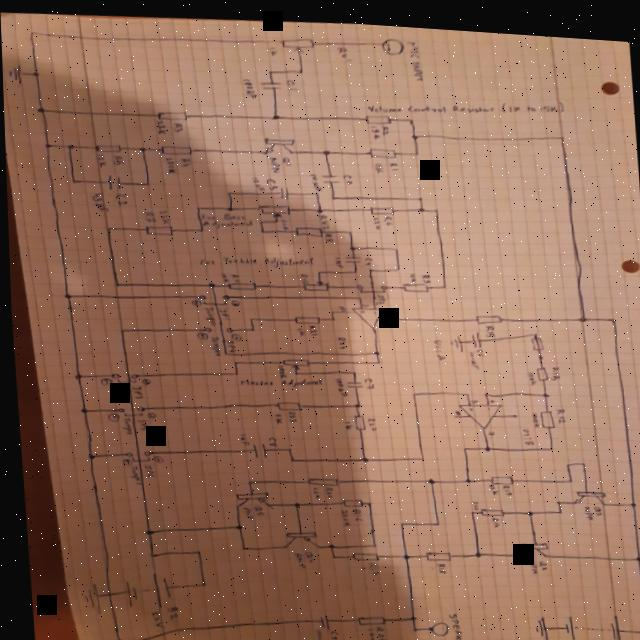capacitor: (248, 436, 264, 454), (258, 74, 281, 86), (106, 171, 121, 188), (343, 373, 361, 385), (321, 167, 339, 179), (314, 609, 327, 625), (468, 324, 480, 341), (342, 249, 359, 258), (278, 181, 288, 194)
crossover: (102, 590, 108, 594)
ground: (79, 580, 97, 612), (528, 606, 545, 633), (7, 61, 21, 82), (447, 326, 462, 345)
junction: (630, 545, 640, 552), (137, 142, 146, 149), (314, 201, 323, 208), (77, 405, 86, 412), (576, 306, 584, 313), (607, 306, 615, 313), (28, 28, 36, 35), (71, 371, 79, 378), (35, 105, 44, 111), (625, 492, 634, 498), (204, 278, 213, 284), (61, 291, 70, 297), (271, 109, 279, 115), (31, 69, 39, 75), (289, 496, 297, 502), (321, 144, 329, 150), (481, 437, 489, 443), (405, 608, 413, 614), (410, 126, 418, 132), (557, 125, 565, 131), (225, 201, 233, 207), (416, 449, 424, 455), (84, 451, 92, 457), (462, 470, 469, 476), (43, 141, 50, 147), (267, 64, 274, 70), (117, 325, 124, 331), (416, 200, 424, 205), (350, 396, 358, 401), (406, 111, 414, 116), (539, 383, 545, 389), (143, 177, 149, 183), (329, 189, 335, 195), (367, 536, 373, 542), (431, 200, 437, 206), (347, 239, 354, 244), (231, 520, 238, 525), (237, 541, 244, 546), (545, 437, 552, 442), (112, 279, 119, 284), (324, 538, 331, 543), (358, 451, 365, 456), (424, 472, 432, 476), (141, 527, 149, 531), (522, 502, 528, 507), (297, 63, 303, 68), (408, 619, 414, 624), (430, 514, 436, 519), (413, 144, 419, 149), (345, 223, 351, 228), (408, 384, 414, 389), (71, 176, 77, 181), (230, 356, 236, 361), (246, 312, 252, 317), (327, 549, 333, 554), (197, 223, 203, 228), (66, 142, 73, 146), (439, 277, 446, 281), (283, 442, 290, 446), (391, 240, 398, 244), (112, 636, 119, 640), (396, 515, 401, 520), (553, 491, 558, 496), (272, 214, 277, 219), (371, 344, 377, 348), (471, 545, 477, 549), (416, 189, 422, 193), (286, 453, 292, 457), (225, 187, 231, 191), (145, 550, 151, 554), (105, 223, 111, 227), (197, 578, 203, 582), (230, 367, 236, 371), (564, 469, 570, 473), (247, 322, 253, 326), (363, 495, 369, 499), (256, 215, 262, 219), (258, 224, 264, 228), (313, 186, 319, 190), (194, 202, 200, 206), (400, 549, 405, 553), (192, 546, 197, 550), (244, 475, 249, 479), (553, 501, 558, 505), (577, 452, 582, 456), (393, 260, 398, 264), (367, 262, 372, 266), (329, 311, 334, 315), (220, 347, 225, 351), (531, 323, 535, 328), (291, 366, 296, 370), (535, 347, 540, 351), (637, 619, 640, 625), (348, 365, 354, 368), (562, 454, 566, 458), (316, 264, 320, 268), (460, 439, 464, 443), (328, 304, 332, 308), (466, 503, 470, 507), (479, 385, 484, 388), (374, 354, 378, 357), (357, 291, 361, 294), (463, 386, 468, 388)
resistor: (280, 30, 315, 50), (256, 197, 290, 214), (292, 218, 321, 233), (142, 220, 172, 234), (300, 273, 328, 288), (155, 105, 187, 118), (303, 470, 337, 482), (363, 106, 392, 120), (280, 352, 308, 366), (160, 140, 191, 152), (420, 542, 448, 555), (347, 543, 375, 556), (367, 197, 394, 210), (399, 275, 428, 287), (352, 608, 380, 620), (473, 305, 501, 317), (225, 276, 255, 287), (486, 466, 511, 479), (368, 140, 395, 152), (536, 401, 553, 420), (93, 140, 121, 151), (337, 490, 360, 503), (274, 395, 298, 407), (476, 499, 500, 509), (533, 356, 547, 373), (350, 408, 364, 425), (291, 310, 317, 319)
source: (559, 601, 620, 640), (120, 568, 167, 607)
switch: (195, 288, 227, 303), (114, 400, 142, 415), (353, 276, 385, 289), (122, 446, 149, 460), (108, 369, 136, 382), (200, 320, 231, 331)
terminal: (510, 405, 515, 409), (451, 408, 455, 412)
text: (365, 83, 566, 116), (195, 245, 313, 268), (237, 369, 320, 384), (199, 213, 252, 225), (409, 34, 424, 75), (199, 206, 247, 218), (444, 604, 459, 640), (89, 189, 109, 211), (241, 73, 259, 95), (430, 331, 444, 354), (206, 331, 220, 352), (307, 167, 322, 186), (125, 462, 139, 482), (201, 302, 215, 322), (465, 342, 478, 363), (336, 40, 354, 55), (308, 623, 323, 640), (250, 171, 265, 188), (518, 419, 531, 438), (163, 154, 177, 171), (288, 546, 302, 563), (156, 205, 170, 222), (332, 372, 344, 391), (315, 208, 329, 224), (146, 608, 159, 625), (267, 151, 280, 168), (112, 381, 124, 399), (118, 414, 130, 432), (362, 555, 376, 570), (155, 115, 167, 132), (336, 503, 347, 521), (113, 190, 127, 204), (333, 330, 346, 345), (109, 151, 124, 164), (370, 620, 381, 637), (552, 399, 564, 414), (94, 150, 106, 165), (141, 208, 156, 220), (369, 118, 380, 134), (360, 619, 370, 636), (133, 415, 146, 428), (285, 73, 298, 86), (579, 497, 591, 511), (238, 502, 250, 516), (140, 461, 152, 475), (348, 502, 359, 517), (129, 382, 140, 397), (360, 371, 372, 384), (216, 303, 228, 316), (274, 359, 284, 374), (547, 357, 557, 372), (528, 404, 537, 420), (299, 545, 311, 557), (264, 174, 276, 186), (372, 155, 383, 168), (267, 41, 280, 52), (372, 288, 385, 299), (364, 411, 374, 425), (224, 335, 234, 349), (524, 551, 534, 565), (283, 406, 294, 418), (270, 408, 281, 420), (178, 153, 190, 164), (482, 317, 493, 329), (163, 603, 173, 616), (236, 428, 246, 441), (278, 213, 288, 226), (525, 363, 534, 377), (249, 500, 260, 511), (297, 267, 308, 278), (381, 209, 392, 220), (533, 551, 544, 562), (432, 555, 442, 567), (485, 476, 495, 488), (170, 118, 182, 128), (371, 209, 379, 224), (585, 631, 598, 640), (97, 375, 110, 384), (486, 509, 496, 520), (499, 476, 509, 487), (280, 150, 290, 161), (341, 168, 352, 178), (324, 624, 334, 635), (321, 481, 330, 493), (333, 250, 342, 262), (264, 432, 274, 442), (387, 155, 397, 165), (228, 269, 238, 279), (380, 118, 389, 129), (309, 481, 317, 493), (590, 496, 598, 508), (149, 452, 161, 460), (194, 328, 206, 336), (188, 295, 200, 303), (341, 414, 350, 424), (307, 320, 316, 330), (322, 228, 332, 237), (105, 410, 115, 419), (219, 268, 227, 278), (419, 267, 429, 275), (229, 329, 239, 337), (408, 265, 415, 276), (294, 321, 302, 330), (473, 341, 482, 349), (469, 493, 476, 503), (144, 408, 154, 415), (363, 251, 371, 259), (228, 296, 238, 302), (336, 299, 344, 306), (599, 636, 613, 640), (120, 456, 128, 463), (484, 422, 492, 428), (140, 375, 148, 381), (468, 391, 477, 396), (483, 397, 489, 404), (360, 296, 368, 300), (487, 391, 493, 396), (465, 400, 471, 404), (357, 304, 363, 308), (371, 304, 376, 308), (453, 402, 457, 406)
transistor: (278, 524, 317, 546), (229, 484, 269, 505), (261, 129, 295, 151), (568, 479, 606, 498), (515, 532, 547, 552)
